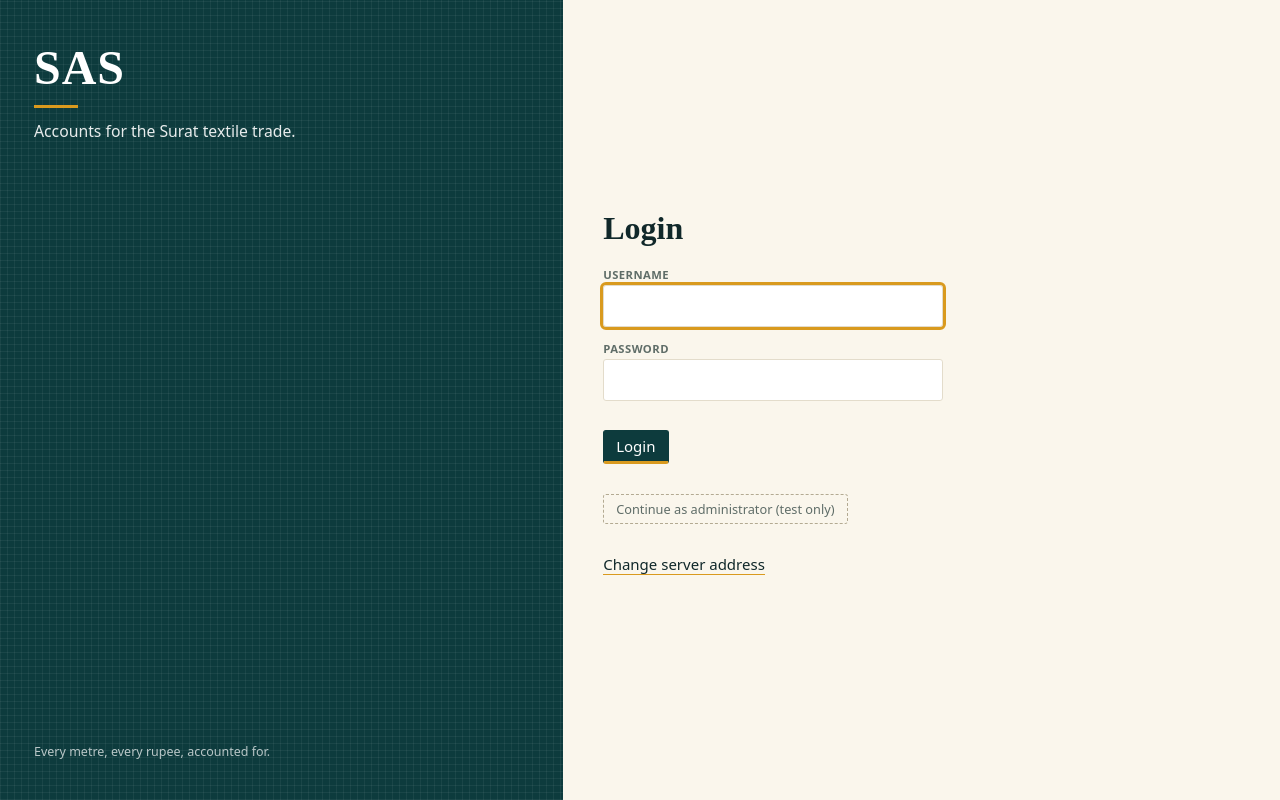
it: Login page › in test mode, clicking the test button works too
The image size is (1280, 800).
Step 1. Click the button "Continue as administrator (test only)" → [725, 509], box [603,494,848,524]
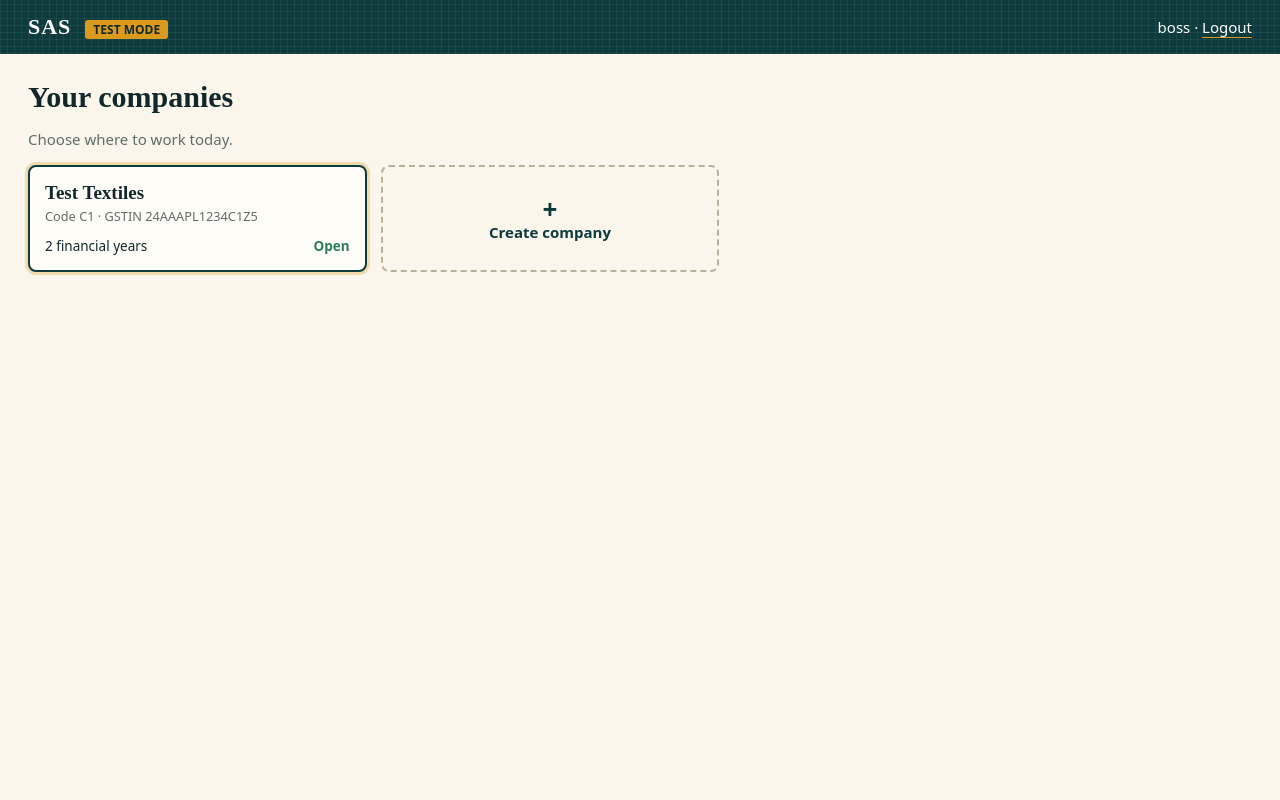
Expected: the heading "Your companies" is shown, [28,80,233,113]
